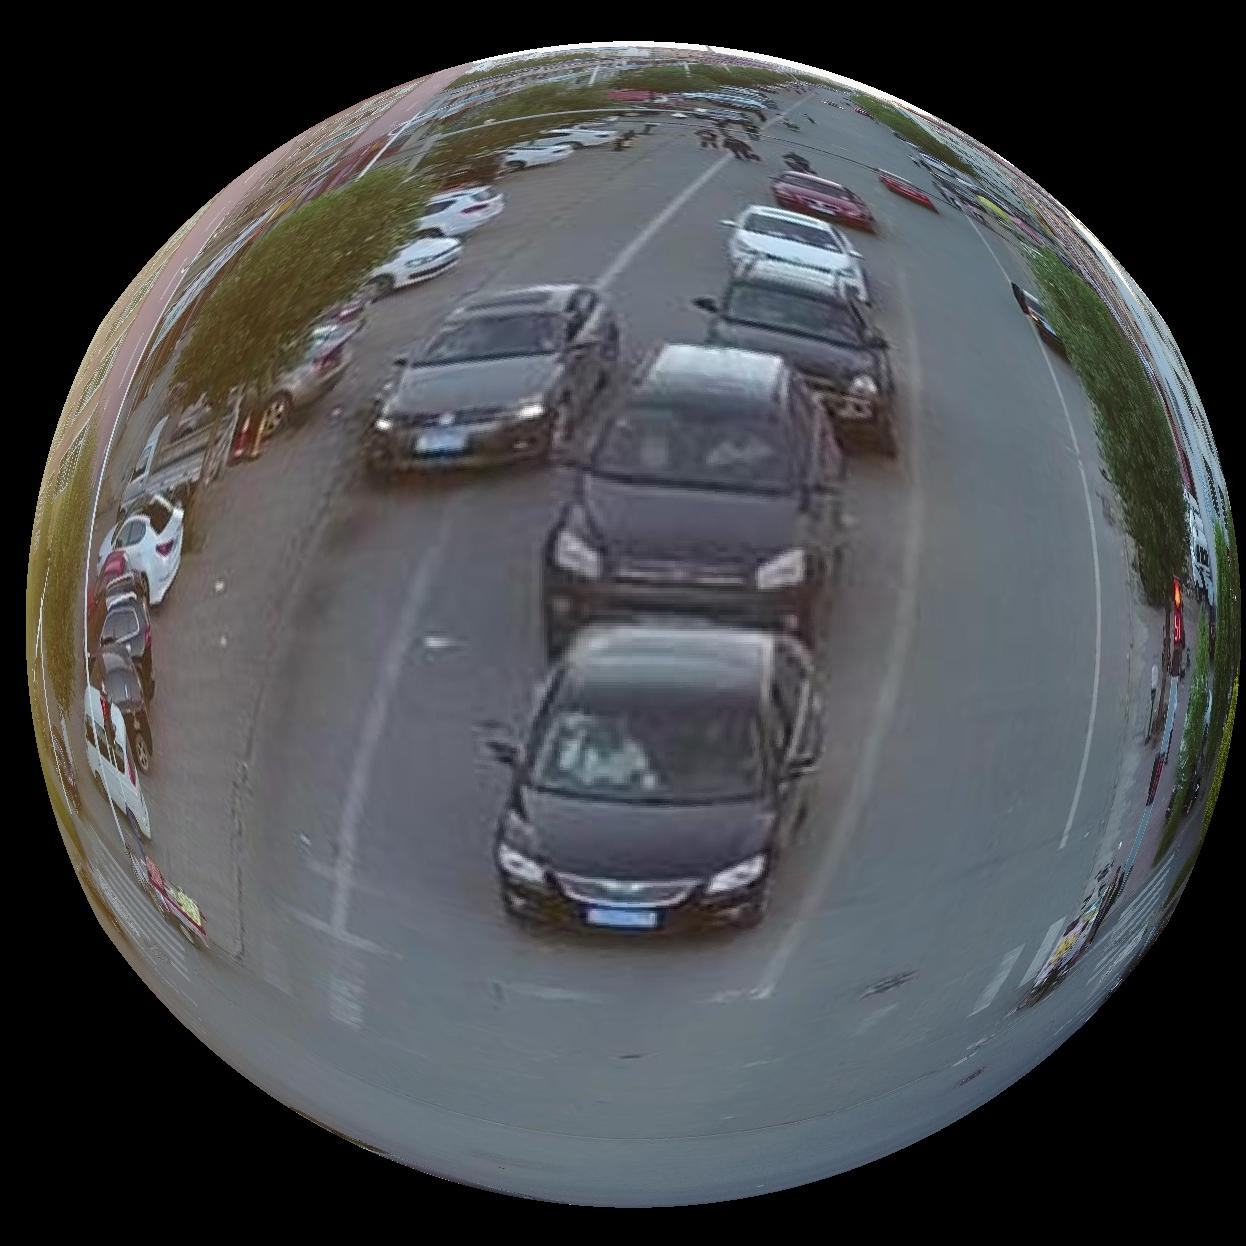cars: (494, 622, 823, 934), (543, 343, 845, 655), (365, 283, 618, 471), (696, 260, 895, 453), (725, 204, 871, 302), (243, 319, 361, 429), (83, 686, 149, 839), (96, 495, 183, 605), (88, 645, 151, 771), (771, 169, 877, 230), (363, 234, 461, 299), (87, 572, 149, 665), (416, 184, 505, 235), (877, 168, 938, 211), (497, 137, 574, 170)
trees: (172, 165, 432, 400), (1028, 246, 1192, 605)
